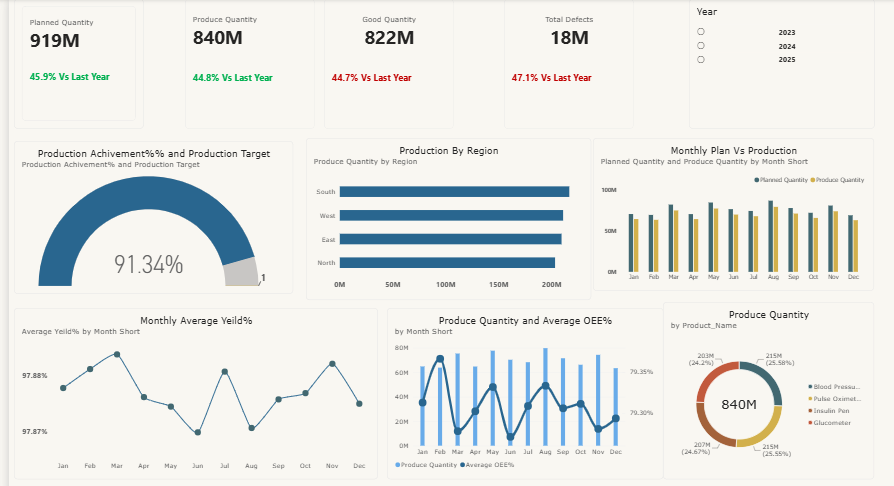

Layout of this report page (visuals, bound fields, positions):
{"tool":"powerbi","page":{"name":"Production Analysis Dashboard","canvas":[1920,1080],"ordinal":0},"visuals":[{"type":"cardVisual","fields":{"Data":["Data_Table.Planned Quantity"]},"box":[10,0,280,280],"z":0},{"type":"listSlicer","fields":{"Values":["Data_Table.Year"]},"box":[1469,0,400.6,279.7],"z":1000},{"type":"cardVisual","fields":{"Data":["Data_Table.Produce Quantity"]},"box":[380.5,0,280,280],"z":2000},{"type":"cardVisual","fields":{"Data":["Data_Table.Good Quantity"]},"box":[680.3,0,280,280],"z":3000},{"type":"cardVisual","fields":{"Data":["Data_Table.Total Defects"]},"box":[1068.3,0,280,280],"z":4000},{"type":"gauge","title":"Production Achivement%% and Production Target","fields":{"Y":["Data_Table.Production Achivement%"],"TargetValue":["Data_Table.Production Target"]},"box":[10.8,306.7,602.6,330.5],"z":5000},{"type":"barChart","title":"Production By Region","fields":{"Category":["Healthcare_Quality.Region"],"Y":["Data_Table.Produce Quantity"]},"box":[641.5,300.2,615.6,349.9],"z":6000},{"type":"clusteredColumnChart","title":"Monthly Plan Vs Production","fields":{"Category":["Data_Table.Month Short"],"Y":["Data_Table.Planned Quantity","Data_Table.Produce Quantity"]},"box":[1261.4,300.2,607.2,330.1],"z":7000},{"type":"areaChart","title":"Monthly Average Yeild% ","fields":{"Category":["Data_Table.Month Short"],"Y":["Data_Table.Average Yeild%"]},"box":[10.1,667.7,786.1,370.4],"z":8000},{"type":"lineStackedColumnComboChart","fields":{"Category":["Data_Table.Month Short"],"Y":["Data_Table.Produce Quantity"],"Y2":["Data_Table.Average OEE%"]},"box":[816.4,667.7,597.2,370.4],"z":9000},{"type":"donutChart","fields":{"Category":["Healthcare_Quality.Product_Name"],"Y":["Data_Table.Produce Quantity"]},"box":[1413.5,655.1,456.1,383],"z":10000}]}

Visuals, with their boxes on the page's 1920x1080 design canvas (x1, y1, x2, y2). These are canvas units, not pixel positions in the 894x486 screenshot, which may show the page scaled, cropped or inside an application window:
cardVisual - Data_Table.Planned Quantity: (10, 0, 290, 280)
listSlicer - Data_Table.Year: (1469, 0, 1870, 280)
cardVisual - Data_Table.Produce Quantity: (380, 0, 660, 280)
cardVisual - Data_Table.Good Quantity: (680, 0, 960, 280)
cardVisual - Data_Table.Total Defects: (1068, 0, 1348, 280)
"Production Achivement%% and Production Target" gauge: (11, 307, 613, 637)
"Production By Region" barChart: (642, 300, 1257, 650)
"Monthly Plan Vs Production" clusteredColumnChart: (1261, 300, 1869, 630)
"Monthly Average Yeild% " areaChart: (10, 668, 796, 1038)
lineStackedColumnComboChart - Data_Table.Month Short x Data_Table.Produce Quantity: (816, 668, 1414, 1038)
donutChart - Healthcare_Quality.Product_Name x Data_Table.Produce Quantity: (1414, 655, 1870, 1038)
